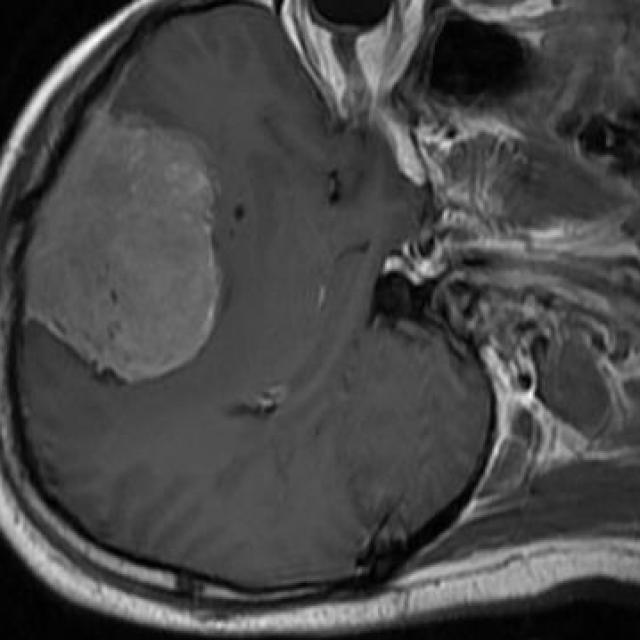meningioma: (27, 123, 217, 383)
